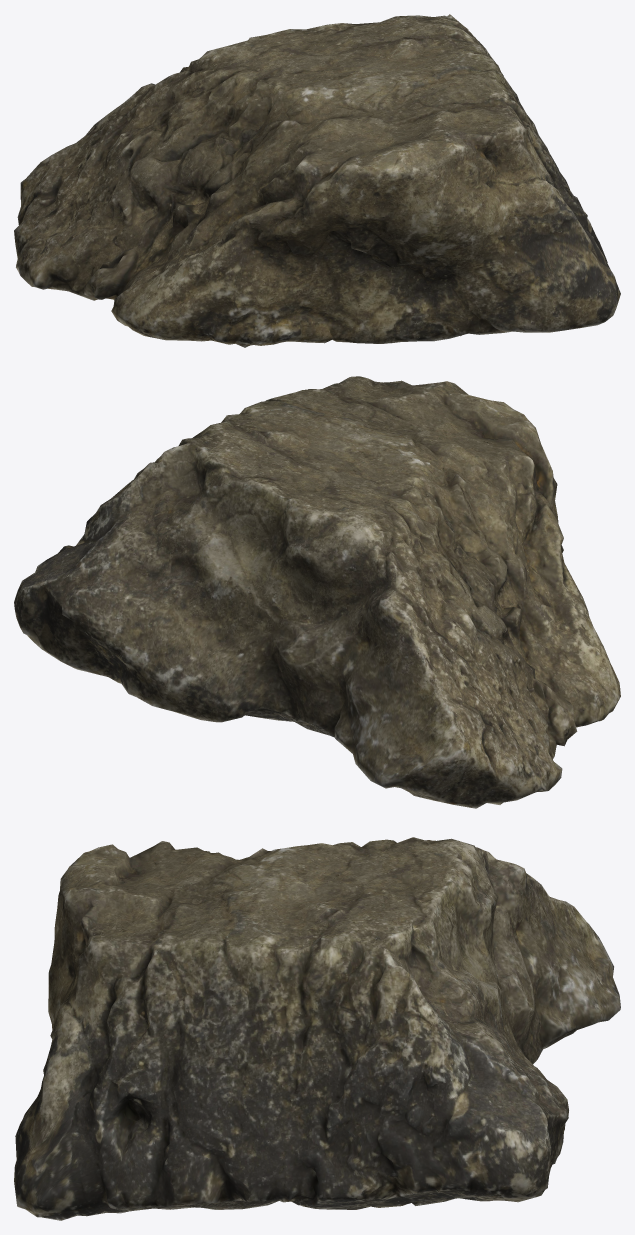
File: Rock2.fbx
3 views of the same model, one above another, from view 1: azimuth 30°, elevation 25°; view 2: azimuth 150°, elevation 25°; view 3: azimuth 270°, elevation 25° (orthographic). The views are drawn at different scales.
Parts seen in each view (by area): view 1: moss rock 09; view 2: moss rock 09; view 3: moss rock 09.
Part boxes in pixels (<box>): moss rock 09: <box>14,14,620,347</box>; moss rock 09: <box>14,376,620,808</box>; moss rock 09: <box>14,837,620,1220</box>.
Size of the model in its own units: 120 by 52.87 by 105.
